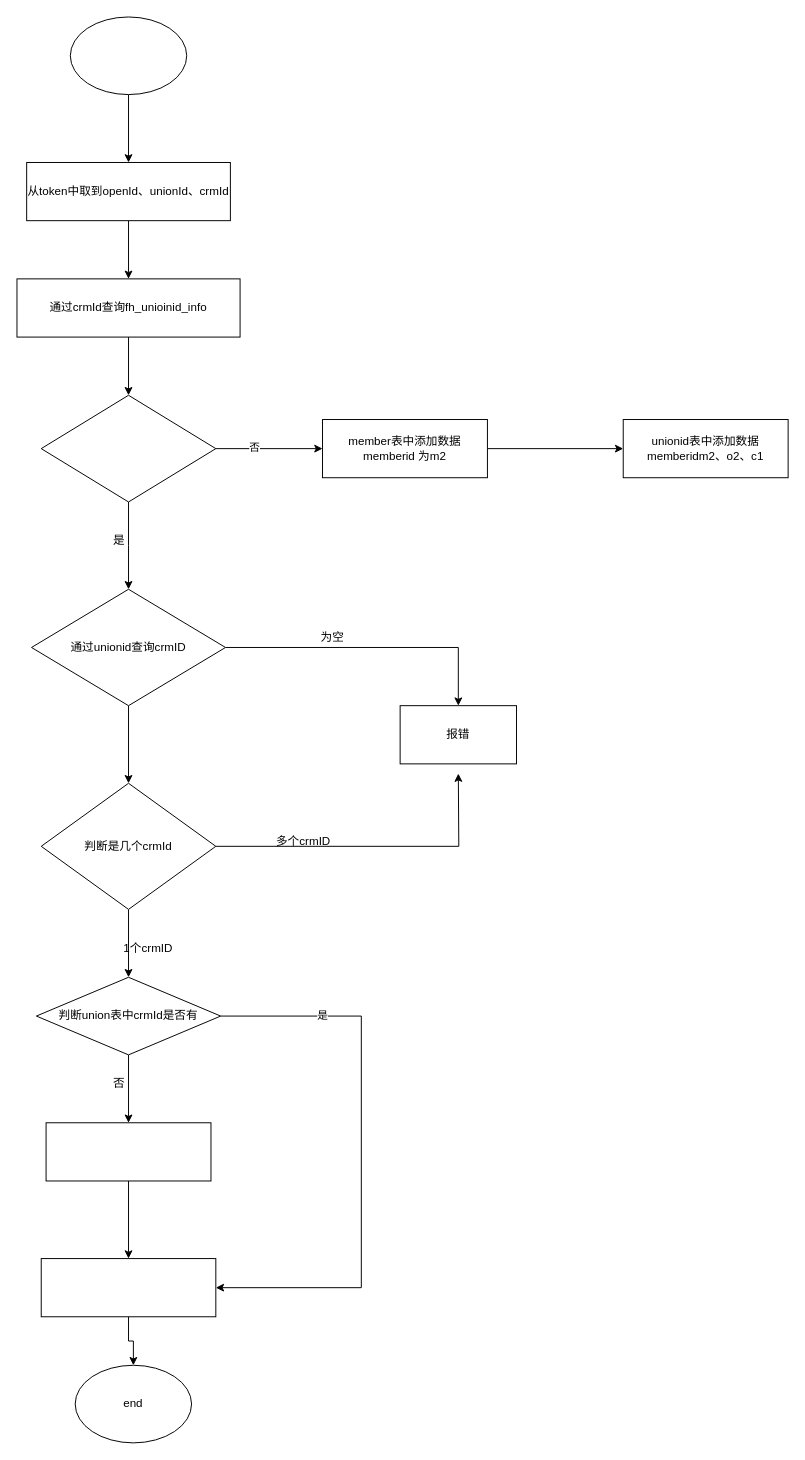
The diagram is 805 pixels wide and 1460 high, and some of its shapes have lost their labels. Here are the shapes that lost their labels. From the top down, the centre of each, then its label:
At (128,55): "start".
At (128,448): "是否有crmId记录".
At (128,1151): "补充c1（H5的crmId）".
At (128,1287): "return".
